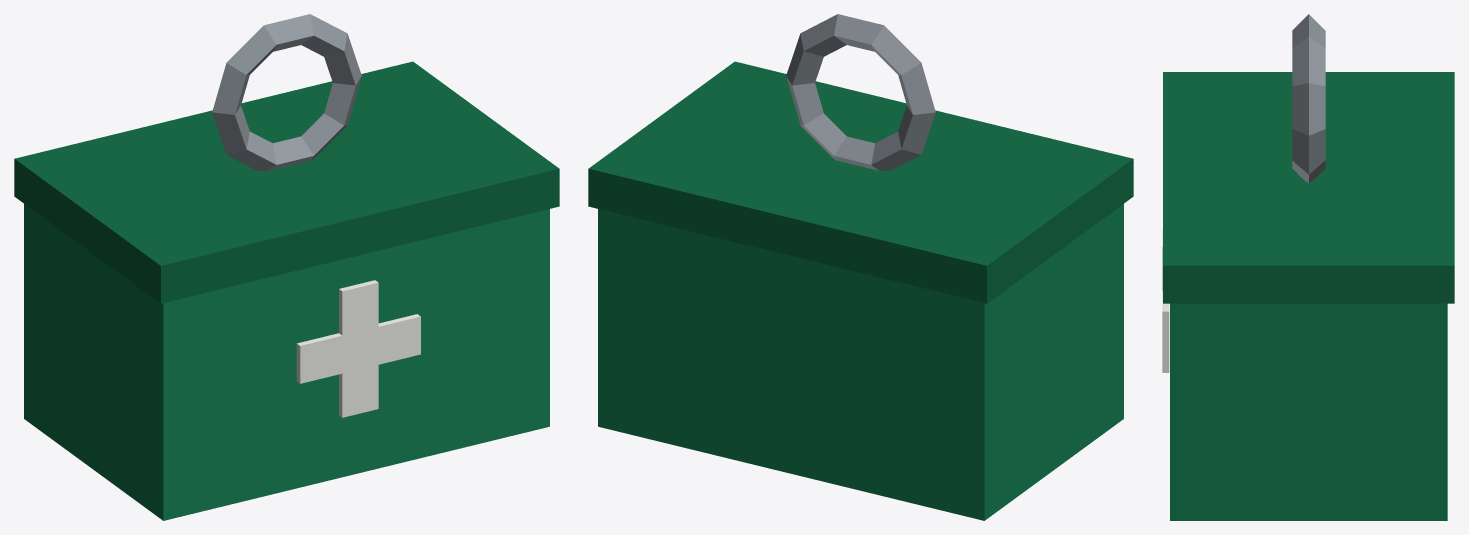
File: supply_firstaid.fbx
3 views of the same model, side by side, from view 1: azimuth 30°, elevation 25°; view 2: azimuth 150°, elevation 25°; view 3: azimuth 270°, elevation 25° (orthographic).
Parts seen in each view (by area): view 1: M__supply_firstaid; view 2: M__supply_firstaid; view 3: M__supply_firstaid.
Part boxes in pixels (<box>): M__supply_firstaid: <box>14,14,559,520</box>; M__supply_firstaid: <box>588,14,1133,520</box>; M__supply_firstaid: <box>1162,14,1454,520</box>.
Size of the model in its own units: 0.33 by 0.319 by 0.2105.
